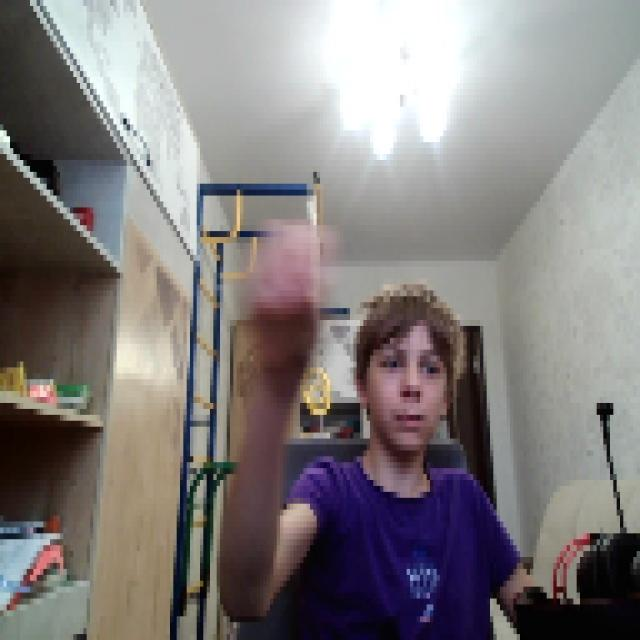left_click: (237, 220, 320, 380)
